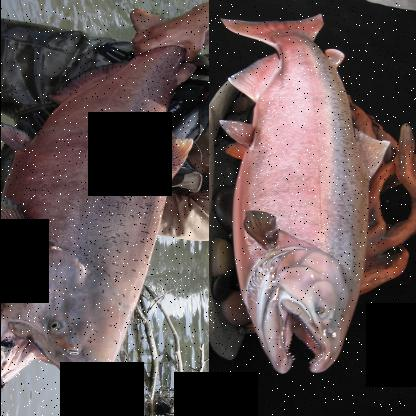fish: (3, 7, 200, 406), (212, 15, 394, 376)
